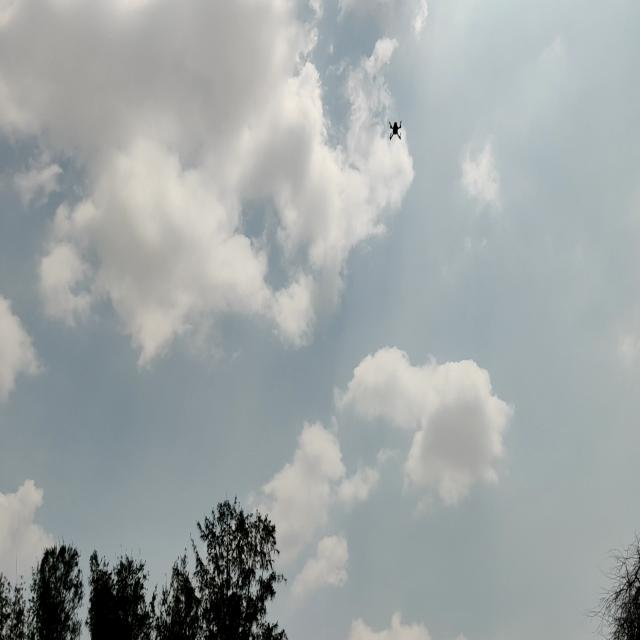drone: (383, 112, 410, 147)
